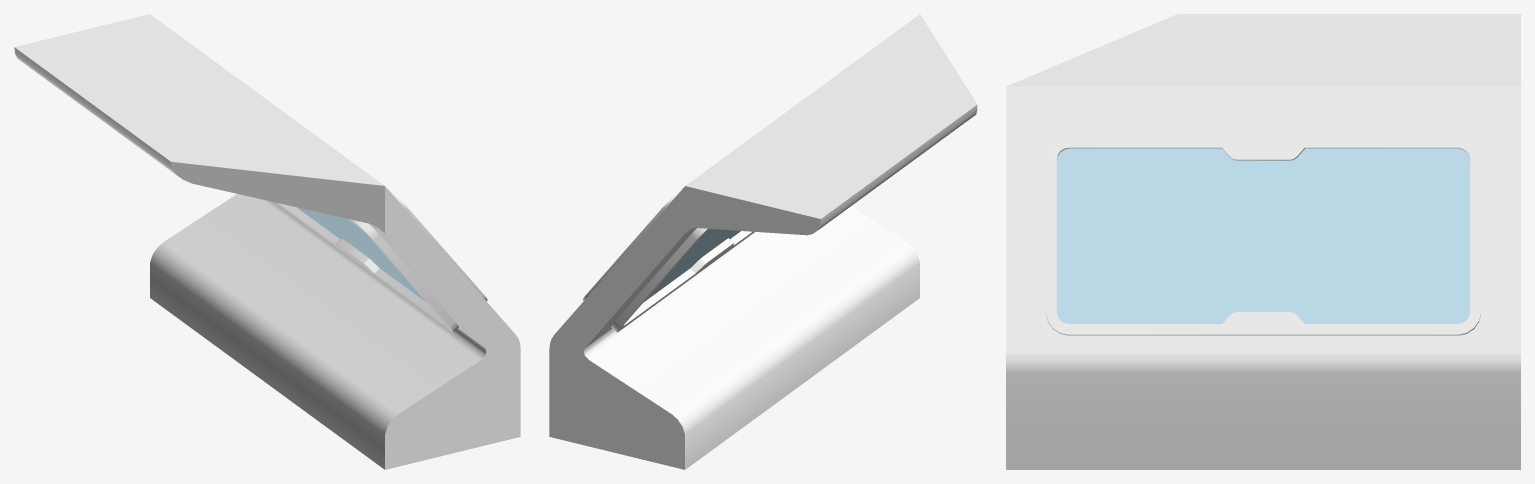
File: Wall_Inclined_02_CoinLeft.glb
3 renders of one model, left to right at view 1: azimuth 30°, elevation 25°; view 2: azimuth 150°, elevation 25°; view 3: azimuth 270°, elevation 25°, orthographic. The views are drawn at different scales.
Visible parts, largest first — view 1: Wall_Inclined_02_CoinLeft, Glass; view 2: Wall_Inclined_02_CoinLeft, Glass; view 3: Wall_Inclined_02_CoinLeft, Glass.
Part boxes in pixels (left/top/right/bottom): Wall_Inclined_02_CoinLeft: left=14, top=14, right=520, bottom=469; Glass: left=297, top=207, right=425, bottom=301; Wall_Inclined_02_CoinLeft: left=549, top=14, right=977, bottom=469; Glass: left=643, top=229, right=740, bottom=302; Wall_Inclined_02_CoinLeft: left=1006, top=14, right=1520, bottom=469; Glass: left=1056, top=148, right=1470, bottom=323.
Size of the model in its own units: 4 by 4 by 6.
